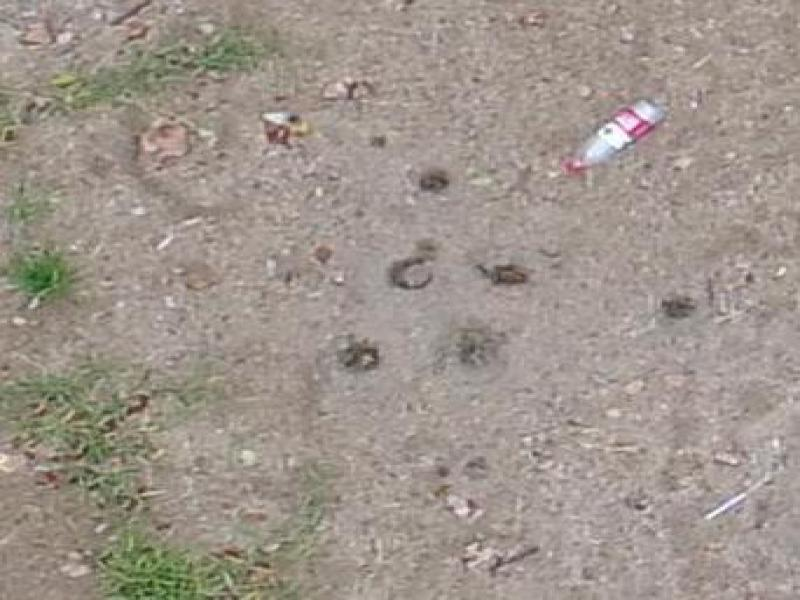bottle: (552, 90, 677, 182)
